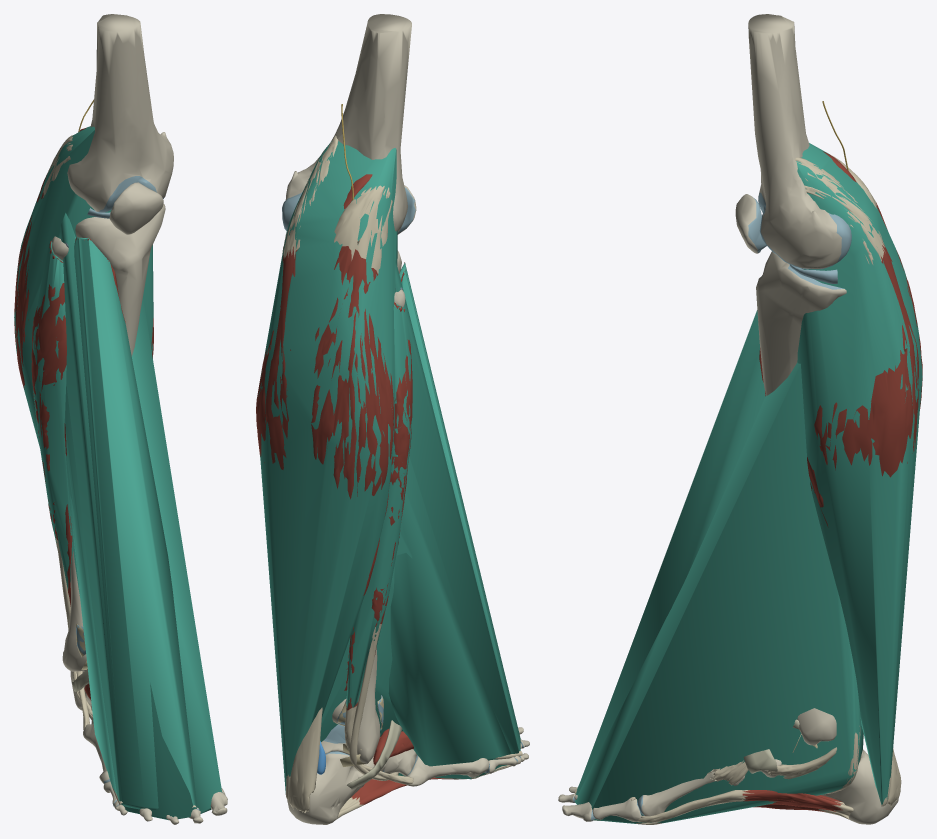
File: right-lower-leg.glb
3 views of the same model, side by side, from view 1: azimuth 30°, elevation 25°; view 2: azimuth 150°, elevation 25°; view 3: azimuth 270°, elevation 25° (orthographic). The views are drawn at different scales.
Parts seen in each view (by area): view 1: anterior_compartment, deep_posterior_compartment, femur_distal, superficial_posterior_compartment, lateral_compartment, tibia, fibularis_longus, gastrocnemius_lateral, patella, fibula, fl_tendon, metatarsal_5; view 2: superficial_posterior_compartment, anterior_compartment, deep_posterior_compartment, gastrocnemius_lateral, femur_distal, lateral_compartment, gastrocnemius_medial, calcaneus, fibularis_longus, achilles, fibula, metatarsal_5 (+6 smaller); view 3: deep_posterior_compartment, superficial_posterior_compartment, femur_distal, anterior_compartment, gastrocnemius_medial, tibia, abductor_hallucis, calcaneus, patella, metatarsal_1, tp_tendon, toe_1_proximal.
Part boxes in pixels (left/top/right/bottom): anterior_compartment: left=64, top=237, right=197, bottom=810; deep_posterior_compartment: left=60, top=213, right=222, bottom=820; femur_distal: left=67, top=14, right=173, bottom=212; superficial_posterior_compartment: left=14, top=126, right=153, bottom=447; lateral_compartment: left=32, top=242, right=73, bottom=595; tibia: left=75, top=204, right=165, bottom=356; fibularis_longus: left=31, top=241, right=66, bottom=540; gastrocnemius_lateral: left=14, top=135, right=73, bottom=388; patella: left=109, top=182, right=163, bottom=234; fibula: left=52, top=236, right=86, bottom=671; fl_tendon: left=55, top=538, right=92, bottom=718; metatarsal_5: left=83, top=724, right=109, bottom=783; superficial_posterior_compartment: left=258, top=141, right=397, bottom=793; anterior_compartment: left=388, top=263, right=520, bottom=766; deep_posterior_compartment: left=320, top=260, right=518, bottom=779; gastrocnemius_lateral: left=311, top=185, right=393, bottom=499; femur_distal: left=282, top=14, right=411, bottom=232; lateral_compartment: left=346, top=304, right=411, bottom=708; gastrocnemius_medial: left=256, top=135, right=338, bottom=469; calcaneus: left=287, top=751, right=385, bottom=824; fibularis_longus: left=371, top=302, right=412, bottom=626; achilles: left=288, top=707, right=322, bottom=812; fibula: left=352, top=289, right=405, bottom=764; metatarsal_5: left=406, top=755, right=489, bottom=786; deep_posterior_compartment: left=575, top=362, right=863, bottom=824; superficial_posterior_compartment: left=796, top=143, right=922, bottom=804; femur_distal: left=748, top=14, right=851, bottom=269; anterior_compartment: left=576, top=310, right=765, bottom=794; gastrocnemius_medial: left=794, top=157, right=919, bottom=477; tibia: left=756, top=251, right=846, bottom=745; abductor_hallucis: left=637, top=790, right=853, bottom=822; calcaneus: left=821, top=749, right=898, bottom=824; patella: left=735, top=194, right=766, bottom=253; metatarsal_1: left=637, top=770, right=715, bottom=816; tp_tendon: left=767, top=747, right=836, bottom=779; toe_1_proximal: left=592, top=799, right=641, bottom=821.
Size of the model in its own units: 114 by 583 by 244.
